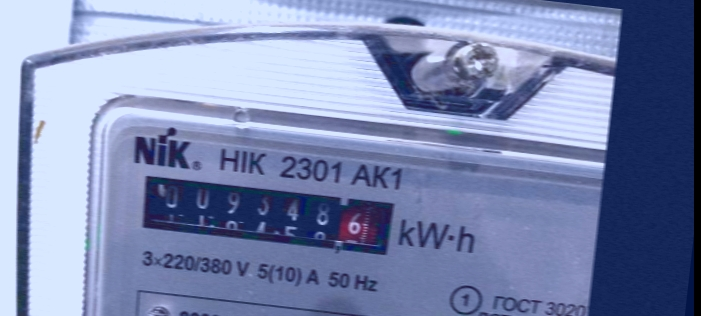0: (164, 179, 180, 207), (194, 183, 211, 207)
3: (254, 189, 271, 216)
4: (284, 192, 301, 220)
6: (345, 206, 365, 235)
8: (314, 196, 332, 226)
9: (223, 186, 241, 214)
screen: (130, 164, 405, 263)
